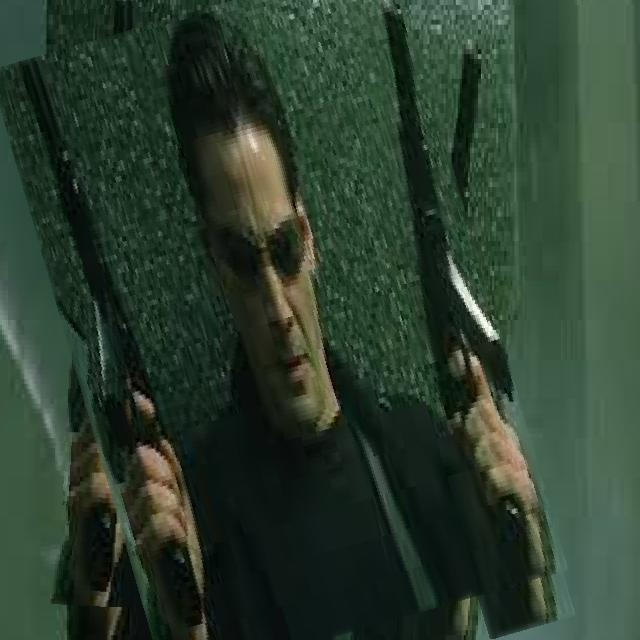Gun_Holder: (0, 43, 238, 618), (364, 7, 576, 609)
Person: (91, 2, 559, 640)
